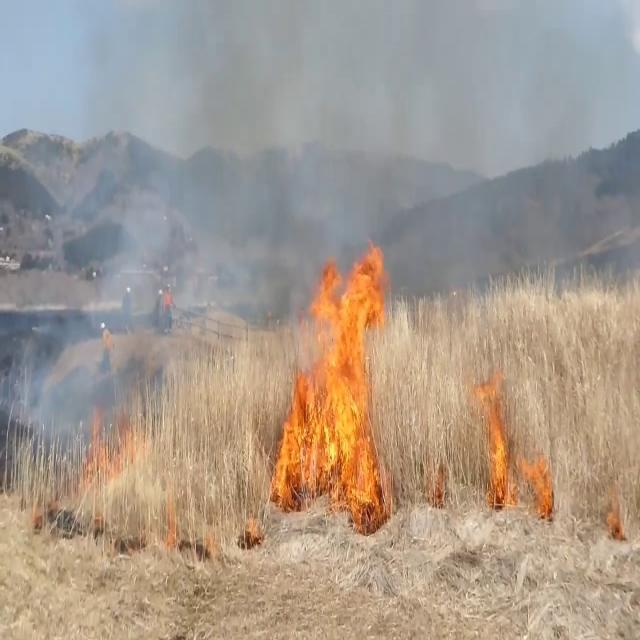Fire: (273, 231, 395, 512), (472, 373, 514, 504), (522, 444, 554, 514)
Smoke: (37, 4, 353, 362)
